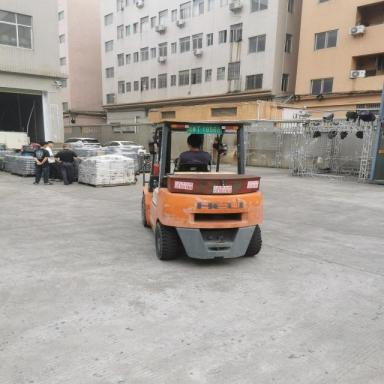forklift: (140, 116, 269, 272)
